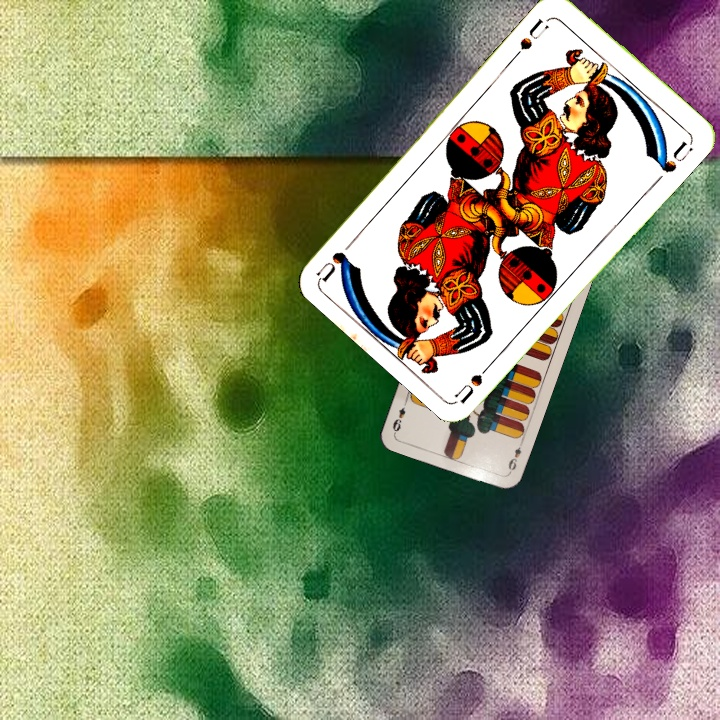E9: (504, 437, 526, 476)
SU: (452, 354, 499, 405), (509, 14, 551, 61)
